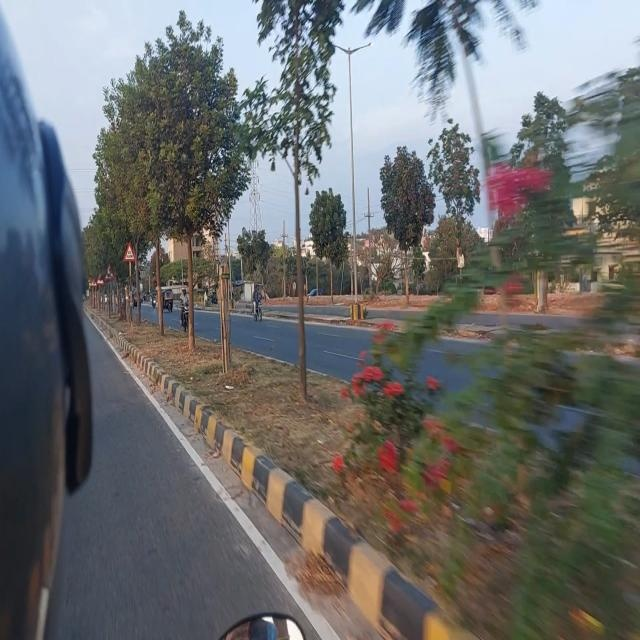bien_nguy_hiem: (123, 243, 136, 263)
